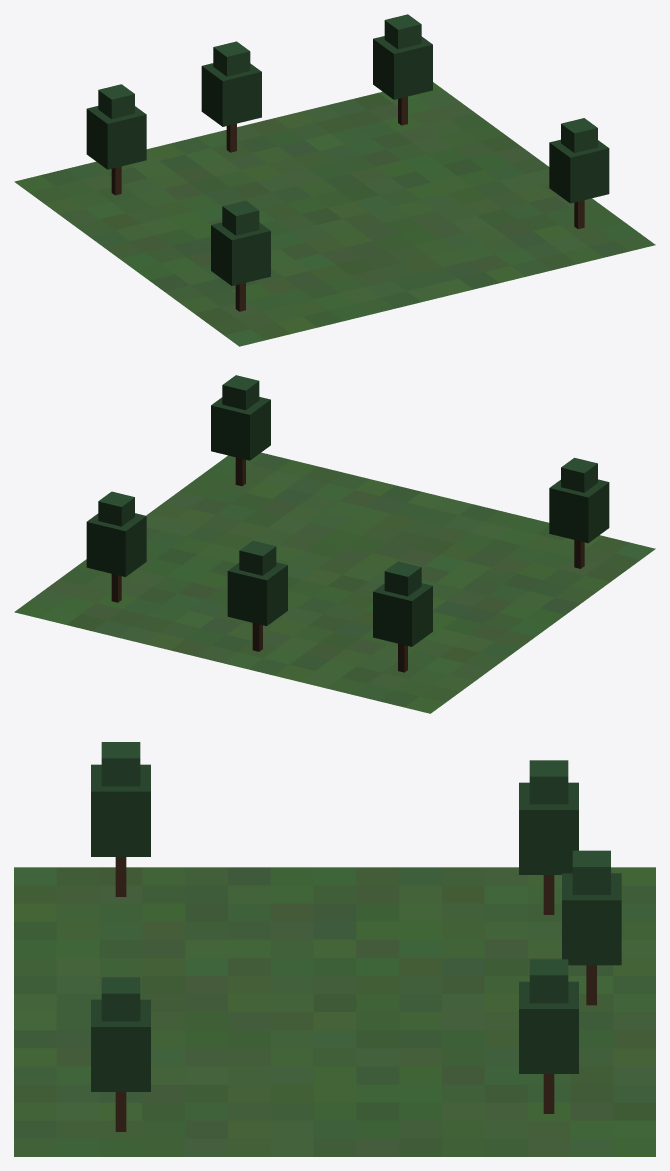
3 views of the same model, one above another, from view 1: azimuth 30°, elevation 25°; view 2: azimuth 150°, elevation 25°; view 3: azimuth 270°, elevation 25° (orthographic). The views are drawn at different scales.
Visible parts, largest first — view 1: scenery; view 2: scenery; view 3: scenery.
Part boxes in pixels (x1=…): scenery: x1=14, y1=14, x2=655, y2=346; scenery: x1=14, y1=375, x2=655, y2=713; scenery: x1=14, y1=742, x2=655, y2=1156.
Size of the model in its own units: 16 by 3.72 by 15.
